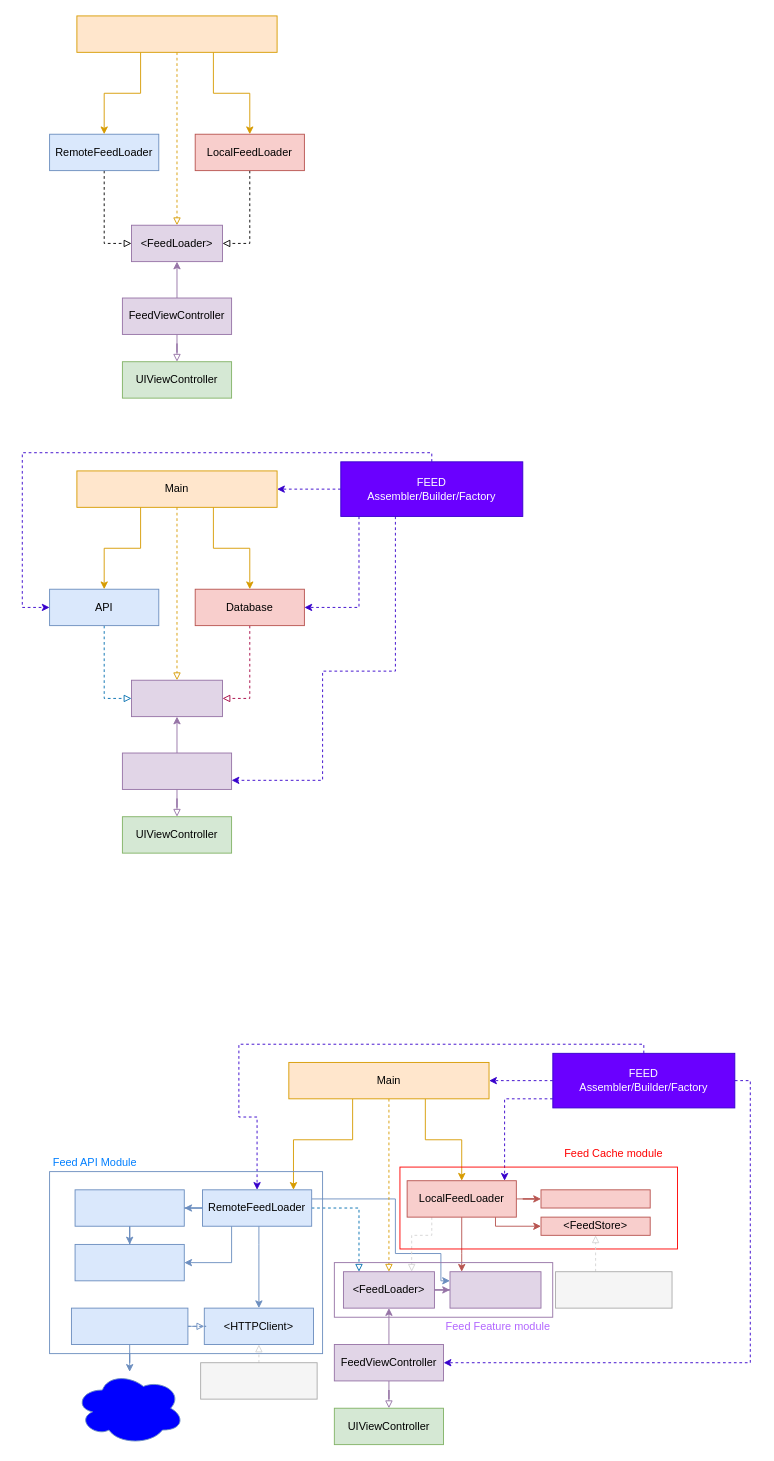
Some shapes in this 774 by 1461 pixel diagram are drawn without their labels. Each missing label, with the centre of its shape:
<Feed Feature>: (176,698)
AnyFeedStore Implementation: (613,1289)
AnyHTTPClient Implementation: (258,1380)
FeedImage: (495,1289)
FeedItemsMapper: (129,1207)
LocalFeedImage: (595,1198)
RemoteFeedItem: (129,1262)
RemoteWithLocalFallbackFeedLoader: (176,33)
UI: (176,770)
URLSession HTTPClient: (129,1326)
